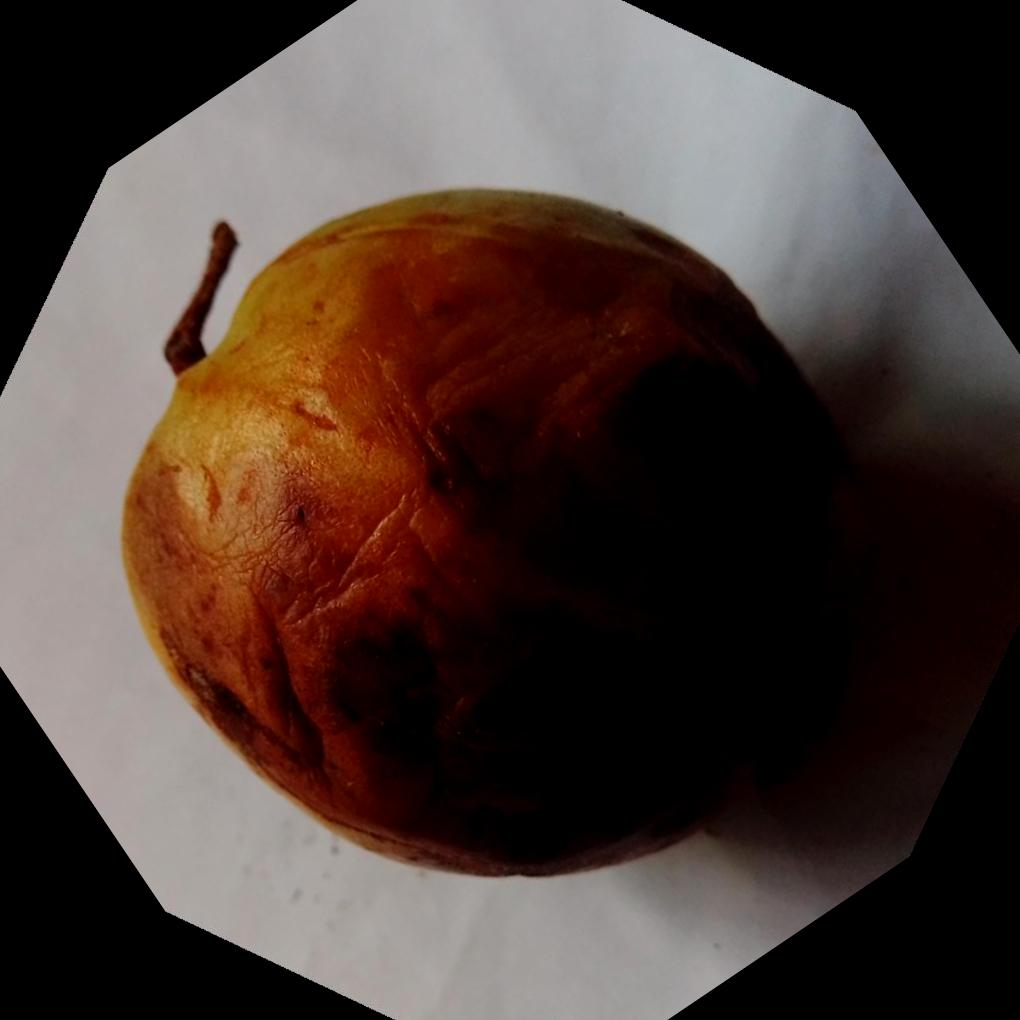FreshOrange: (121, 182, 858, 879)
